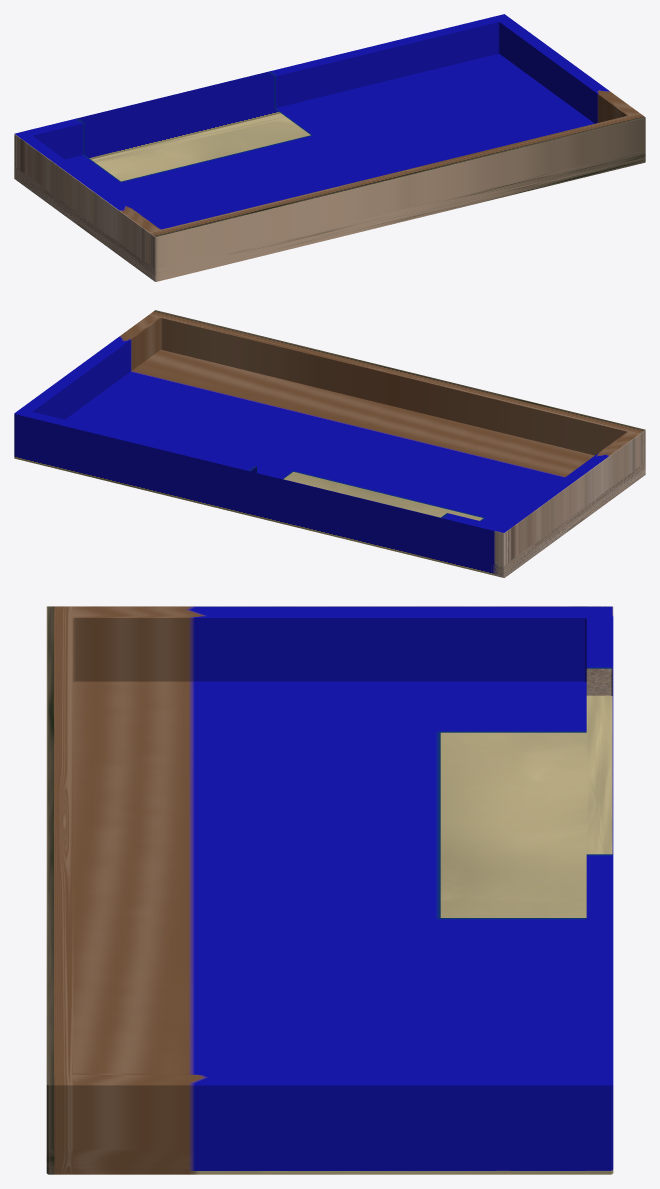
Rendered from roof.fbx.
3 renders of one model, top to bottom at view 1: azimuth 30°, elevation 25°; view 2: azimuth 150°, elevation 25°; view 3: azimuth 270°, elevation 25°, orthographic. The views are drawn at different scales.
Parts seen in each view (by area): view 1: roof; view 2: roof; view 3: roof.
Boxes of the visible parts, left/top/right/bottom form: roof: left=14, top=14, right=645, bottom=281; roof: left=14, top=310, right=645, bottom=577; roof: left=46, top=606, right=613, bottom=1174.
Size of the model in its own units: 800 by 69.73 by 400.
